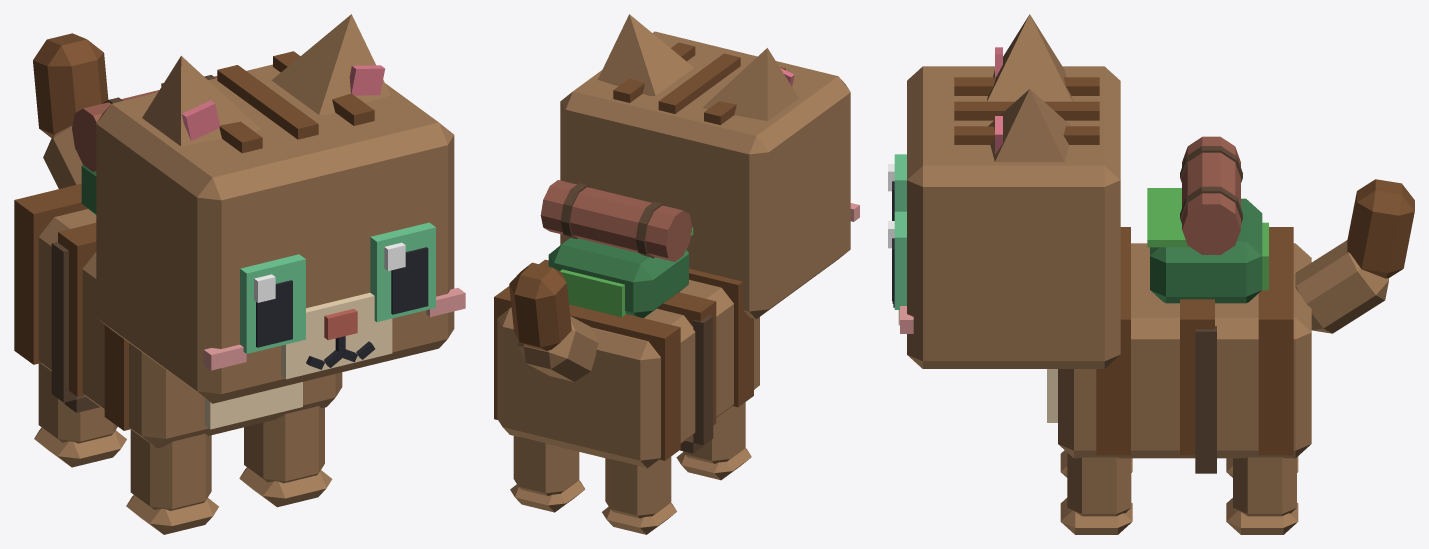
Rendered from CatCafe_Cat_Pinecone.glb.
3 views of the same model, side by side, from view 1: azimuth 30°, elevation 25°; view 2: azimuth 150°, elevation 25°; view 3: azimuth 270°, elevation 25° (orthographic). The views are drawn at different scales.
Parts seen in each view (by area): view 1: CatCafe_Cat_Pinecone_Head, CatCafe_Cat_Pinecone_Body, CatCafe_Cat_Pinecone_Tail, CatCafe_Cat_Pinecone_LegF2, CatCafe_Cat_Pinecone_LegF1, CatCafe_Cat_Pinecone_EarL, CatCafe_Cat_Pinecone_Eye2, CatCafe_Cat_Pinecone_Eye1, CatCafe_Cat_Pinecone_Prop, CatCafe_Cat_Pinecone_EarR, CatCafe_Cat_Pinecone_LegB2; view 2: CatCafe_Cat_Pinecone_Head, CatCafe_Cat_Pinecone_Body, CatCafe_Cat_Pinecone_Prop, CatCafe_Cat_Pinecone_Tail, CatCafe_Cat_Pinecone_LegB2, CatCafe_Cat_Pinecone_LegB1, CatCafe_Cat_Pinecone_EarL, CatCafe_Cat_Pinecone_EarR, CatCafe_Cat_Pinecone_LegF2; view 3: CatCafe_Cat_Pinecone_Head, CatCafe_Cat_Pinecone_Body, CatCafe_Cat_Pinecone_Prop, CatCafe_Cat_Pinecone_Tail, CatCafe_Cat_Pinecone_LegF1, CatCafe_Cat_Pinecone_LegB1, CatCafe_Cat_Pinecone_EarR, CatCafe_Cat_Pinecone_EarL, CatCafe_Cat_Pinecone_Eye1, CatCafe_Cat_Pinecone_Eye2.
Boxes of the visible parts, box(x1,y1,x2,y2) form: CatCafe_Cat_Pinecone_Head: box(96, 51, 465, 403); CatCafe_Cat_Pinecone_Body: box(14, 183, 342, 448); CatCafe_Cat_Pinecone_Tail: box(33, 33, 108, 188); CatCafe_Cat_Pinecone_LegF2: box(126, 429, 218, 534); CatCafe_Cat_Pinecone_LegF1: box(239, 406, 332, 507); CatCafe_Cat_Pinecone_EarL: box(271, 14, 390, 115); CatCafe_Cat_Pinecone_Eye2: box(240, 254, 305, 353); CatCafe_Cat_Pinecone_Eye1: box(370, 222, 435, 321); CatCafe_Cat_Pinecone_Prop: box(51, 75, 217, 412); CatCafe_Cat_Pinecone_EarR: box(142, 56, 260, 146); CatCafe_Cat_Pinecone_LegB2: box(34, 363, 126, 467); CatCafe_Cat_Pinecone_Head: box(560, 31, 859, 319); CatCafe_Cat_Pinecone_Body: box(494, 259, 759, 468); CatCafe_Cat_Pinecone_Prop: box(540, 180, 713, 453); CatCafe_Cat_Pinecone_Tail: box(509, 262, 598, 381); CatCafe_Cat_Pinecone_LegB2: box(602, 456, 676, 534); CatCafe_Cat_Pinecone_LegB1: box(510, 436, 585, 512); CatCafe_Cat_Pinecone_EarL: box(597, 14, 693, 95); CatCafe_Cat_Pinecone_EarR: box(703, 48, 798, 121); CatCafe_Cat_Pinecone_LegF2: box(676, 402, 751, 480); CatCafe_Cat_Pinecone_Head: box(892, 66, 1120, 368); CatCafe_Cat_Pinecone_Body: box(1047, 227, 1311, 458); CatCafe_Cat_Pinecone_Prop: box(1147, 136, 1268, 473); CatCafe_Cat_Pinecone_Tail: box(1295, 179, 1414, 333); CatCafe_Cat_Pinecone_LegF1: box(1060, 453, 1132, 534); CatCafe_Cat_Pinecone_LegB1: box(1226, 457, 1298, 534); CatCafe_Cat_Pinecone_EarR: box(987, 14, 1072, 101); CatCafe_Cat_Pinecone_EarL: box(988, 89, 1070, 161); CatCafe_Cat_Pinecone_Eye1: box(888, 211, 906, 309); CatCafe_Cat_Pinecone_Eye2: box(888, 154, 906, 220).
Bounding box in the file's own units: 1 × 1.86 × 1.97.
1 material, 1 textured.
